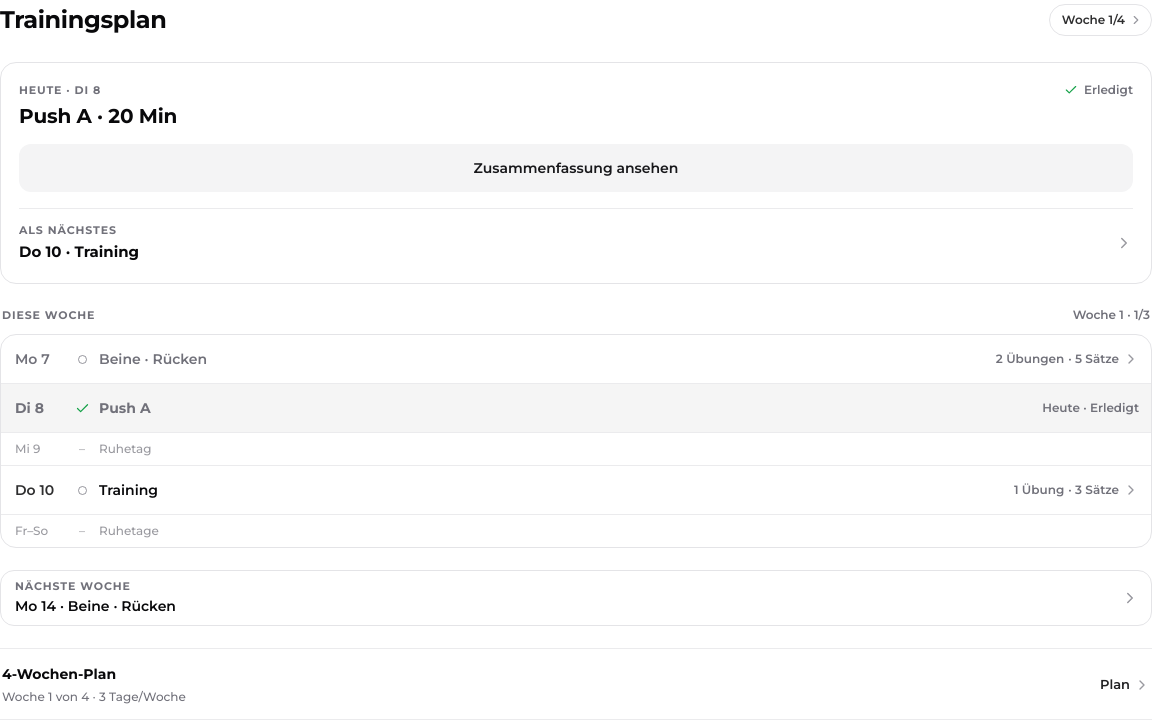
Test case: Day Detail › never restarts a completed day or starts a past one
Click the button with aria-label "Di 8," at (125, 408), box [1,384,1151,432]
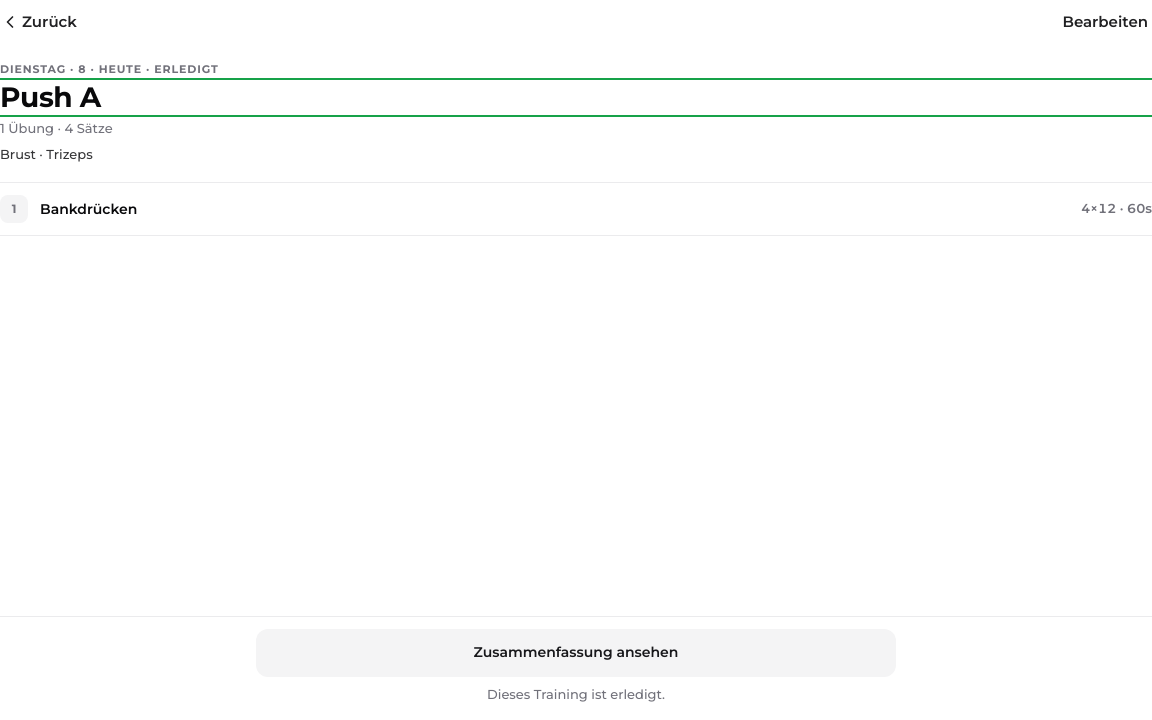
Check: the buttons read "Zusammenfassung ansehen", in this order, box [256,628,896,676]
Check: the text "Dienstag · 8 · Heute · Erledigt" is shown, box [0,62,219,76]
Check: the text "Dieses Training ist erledigt." is shown, box [487,686,665,702]
Click the button "Zurück" at (42, 22), box [0,0,85,44]
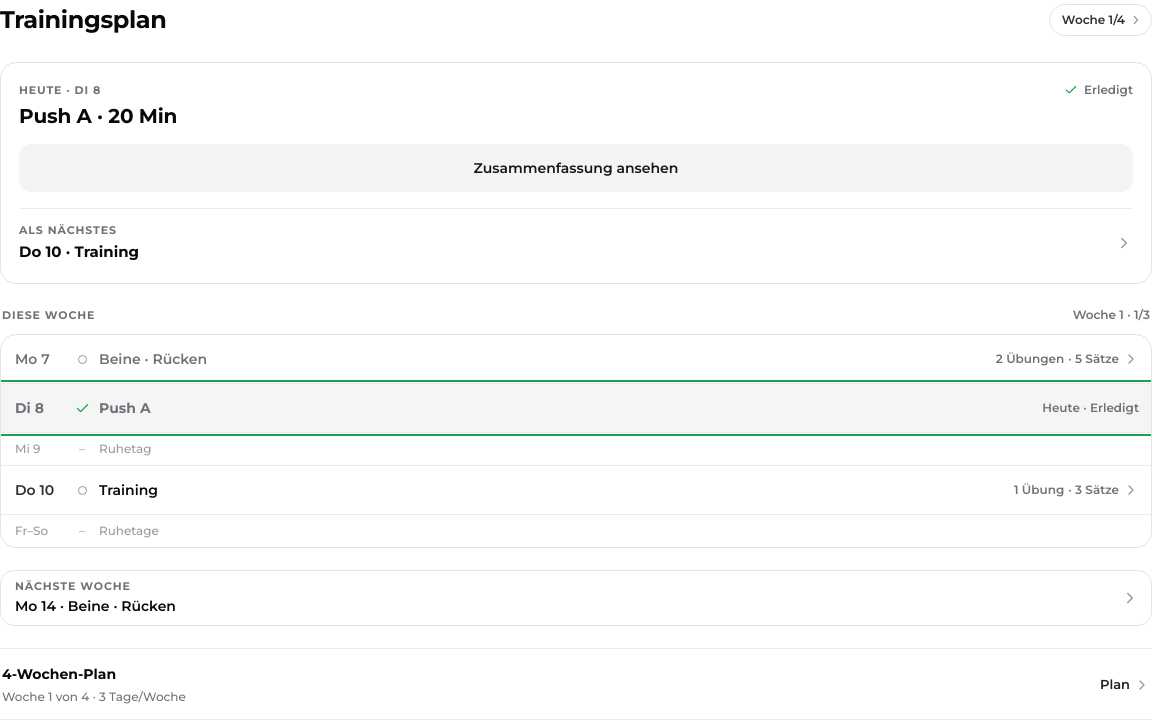
Click the button with aria-label "Mo 7," at (32, 358), box [1,335,1151,383]
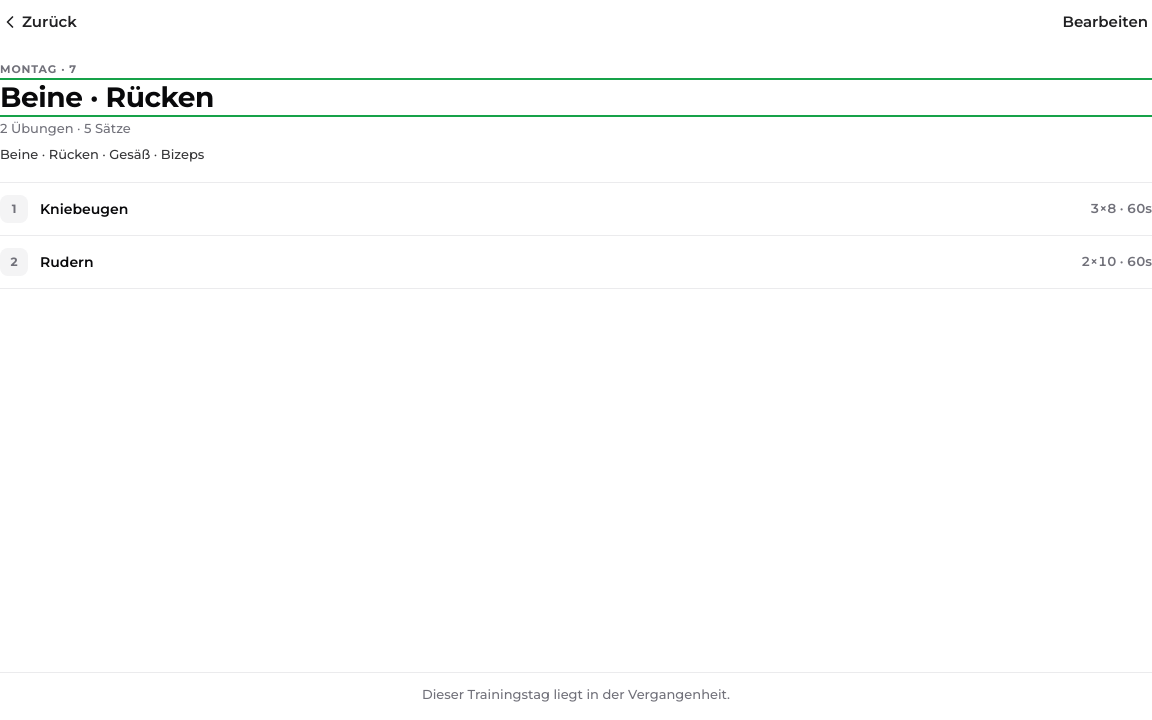
Check: the button "Woche 1/4" is gone
Check: the text "Dieser Trainingstag liegt in der Vergangenheit." is shown, box [422,686,730,702]
